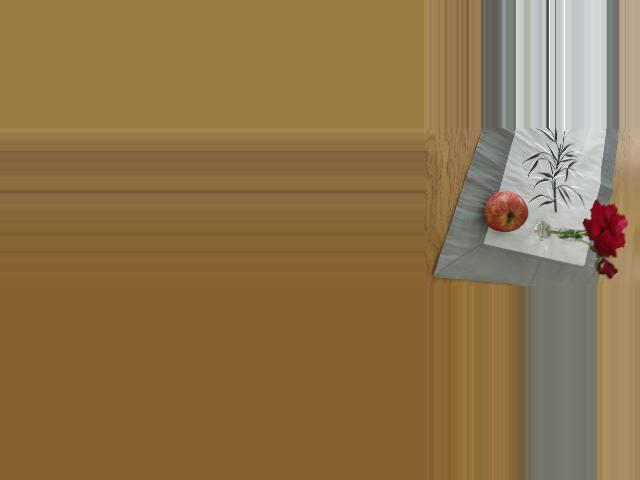apple: (479, 190, 530, 237)
